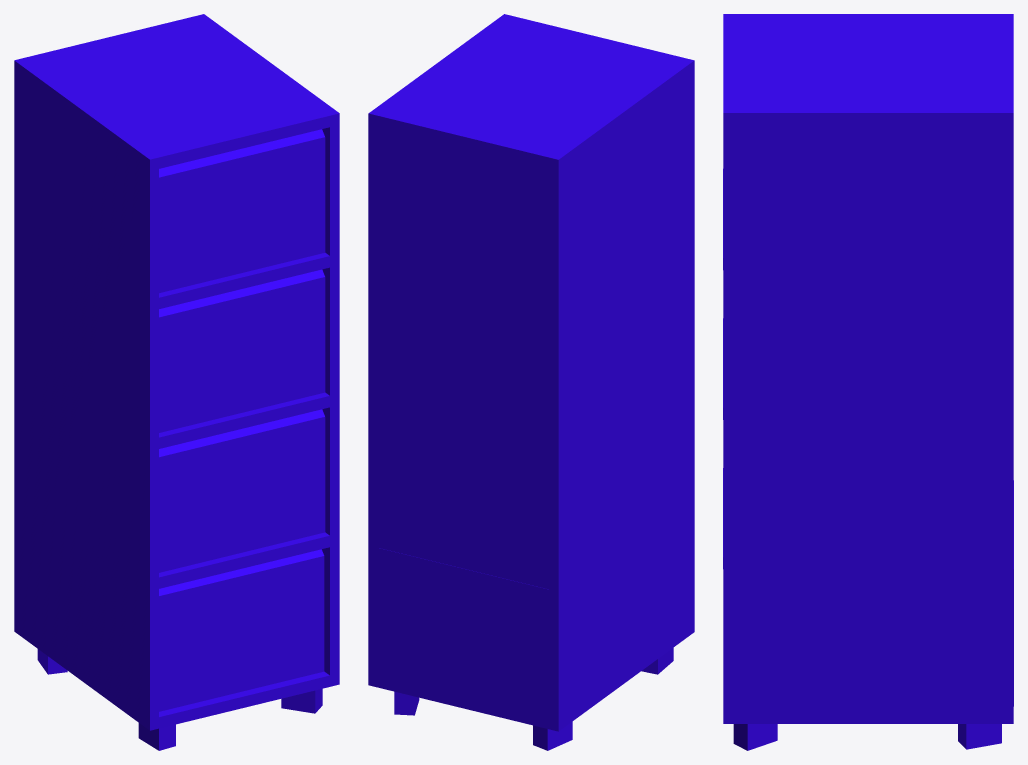
File: office_pack_fileCabin_1_meshCollider.fbx
3 renders of one model, left to right at view 1: azimuth 30°, elevation 25°; view 2: azimuth 150°, elevation 25°; view 3: azimuth 270°, elevation 25°, orthographic. The views are drawn at different scales.
Parts seen in each view (by area): view 1: Office_pack_fileCabin_1_meshCollider, Office_pack_fileCabin_1_box_1_meshCollider, Office_pack_fileCabin_1_box_3_meshCollider, Office_pack_fileCabin_1_box_2_meshCollider, Office_pack_fileCabin_1_box_4_meshCollider; view 2: Office_pack_fileCabin_1_meshCollider, Office_pack_fileCabin_1_box_4_meshCollider; view 3: Office_pack_fileCabin_1_meshCollider.
Boxes of the visible parts, x1,y1,x2,y2 form: Office_pack_fileCabin_1_meshCollider: (14, 14, 339, 750); Office_pack_fileCabin_1_box_1_meshCollider: (159, 129, 325, 293); Office_pack_fileCabin_1_box_3_meshCollider: (159, 409, 325, 572); Office_pack_fileCabin_1_box_2_meshCollider: (159, 269, 325, 432); Office_pack_fileCabin_1_box_4_meshCollider: (159, 549, 324, 711); Office_pack_fileCabin_1_meshCollider: (368, 14, 694, 750); Office_pack_fileCabin_1_box_4_meshCollider: (378, 548, 549, 717); Office_pack_fileCabin_1_meshCollider: (723, 14, 1013, 750).
Size of the model in its own units: 32.27 by 97.3 by 40.02.
